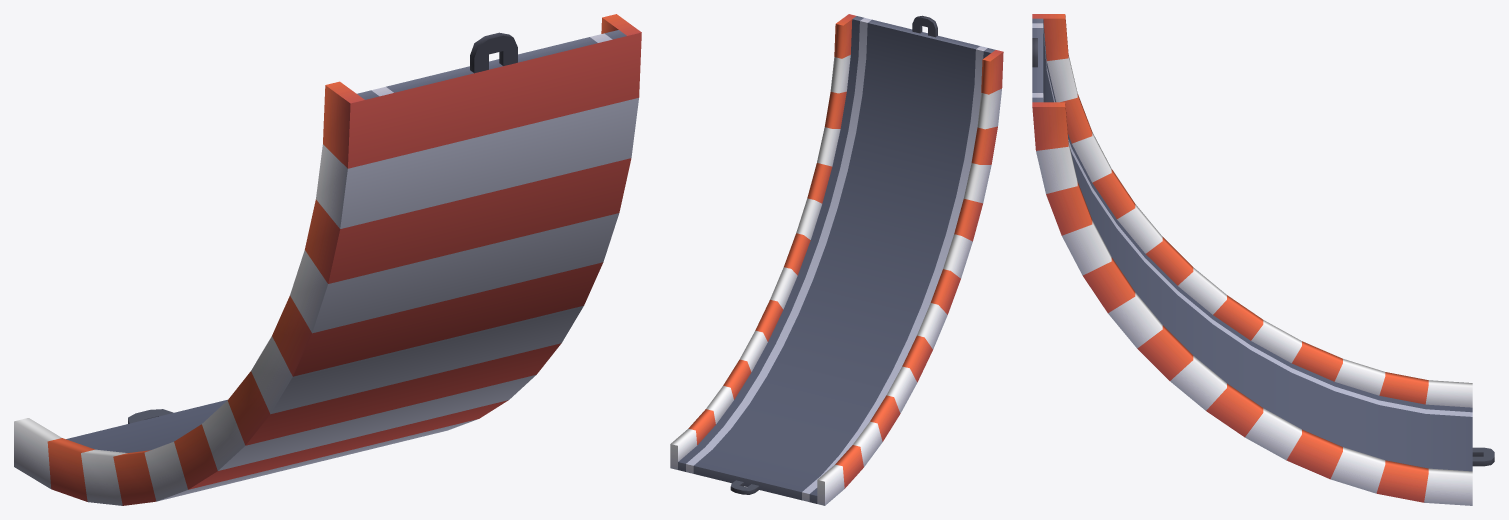
The model's file is kenney-toy-car-track-road-wide-straight-bend-large.glb.
3 renders of one model, left to right at view 1: azimuth 30°, elevation 25°; view 2: azimuth 150°, elevation 25°; view 3: azimuth 270°, elevation 25°, orthographic. The views are drawn at different scales.
Parts seen in each view (by area): view 1: track-road-wide-straight-bend-large; view 2: track-road-wide-straight-bend-large; view 3: track-road-wide-straight-bend-large.
Boxes of the visible parts, left/top/right/bottom form: track-road-wide-straight-bend-large: left=14, top=14, right=641, bottom=505; track-road-wide-straight-bend-large: left=670, top=14, right=1003, bottom=505; track-road-wide-straight-bend-large: left=1032, top=14, right=1494, bottom=505.
Size of the model in its own units: 2 by 4.2 by 4.2.
1 material, 1 textured.
